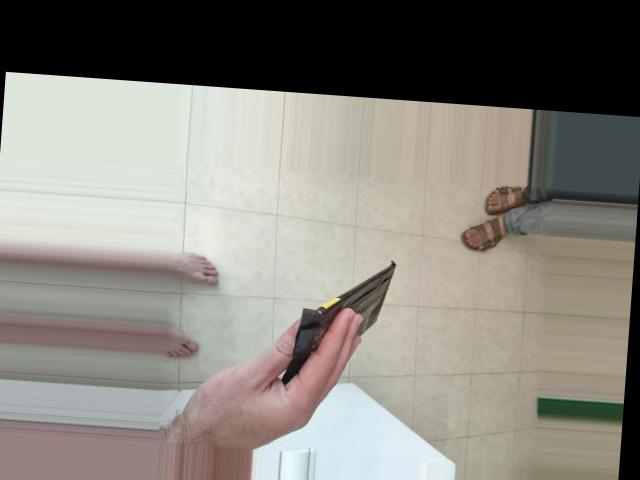chocolate: (326, 182, 470, 320)
